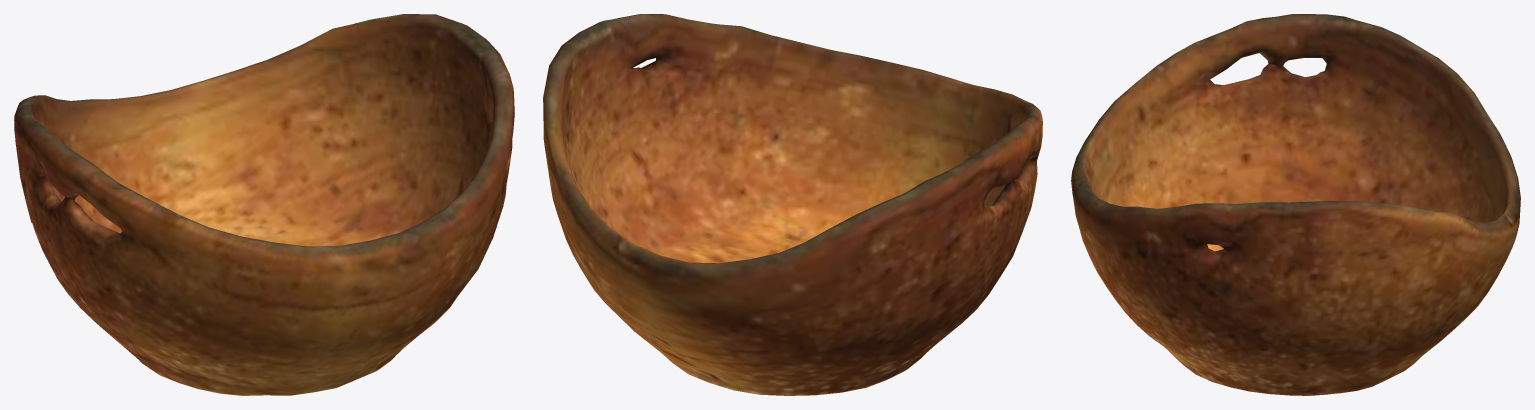
File: wooden_bowl_02.glb
3 views of the same model, side by side, from view 1: azimuth 30°, elevation 25°; view 2: azimuth 150°, elevation 25°; view 3: azimuth 270°, elevation 25° (orthographic). The views are drawn at different scales.
Visible parts, largest first — view 1: wooden_bowl_02; view 2: wooden_bowl_02; view 3: wooden_bowl_02.
Boxes of the visible parts, x1=… form: wooden_bowl_02: x1=14, y1=14, x2=514, y2=395; wooden_bowl_02: x1=543, y1=14, x2=1042, y2=395; wooden_bowl_02: x1=1071, y1=14, x2=1520, y2=395.
Size of the model in its own units: 0.1307 by 0.0731 by 0.1245.
Materials: 1 (1 with a texture image).
